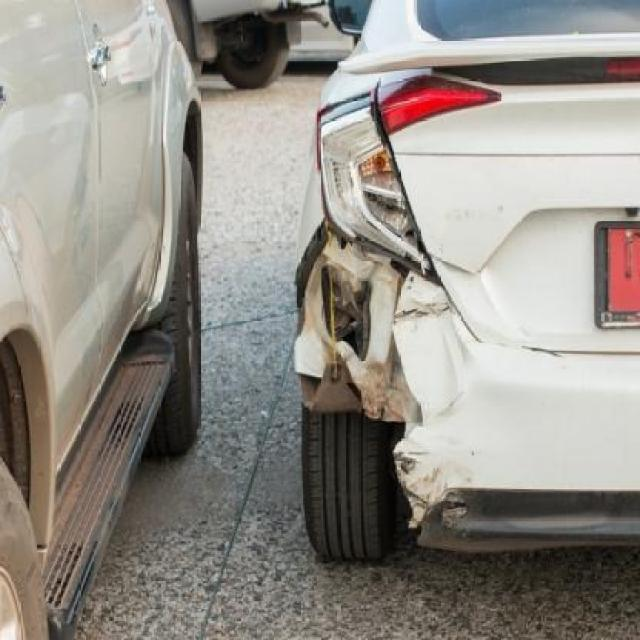minor: (294, 95, 460, 426)
